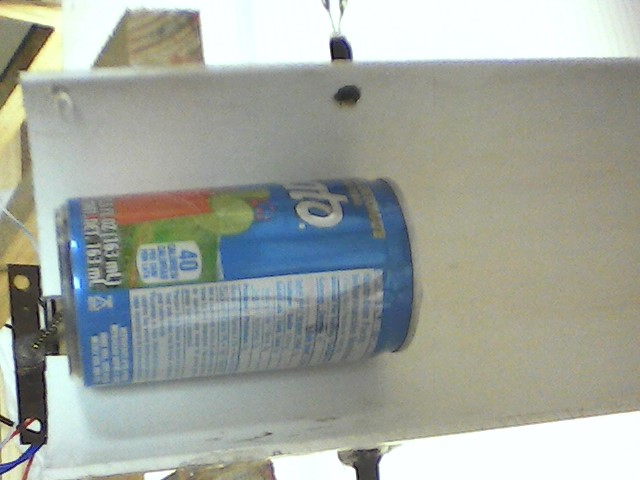lata: (53, 174, 431, 392)
